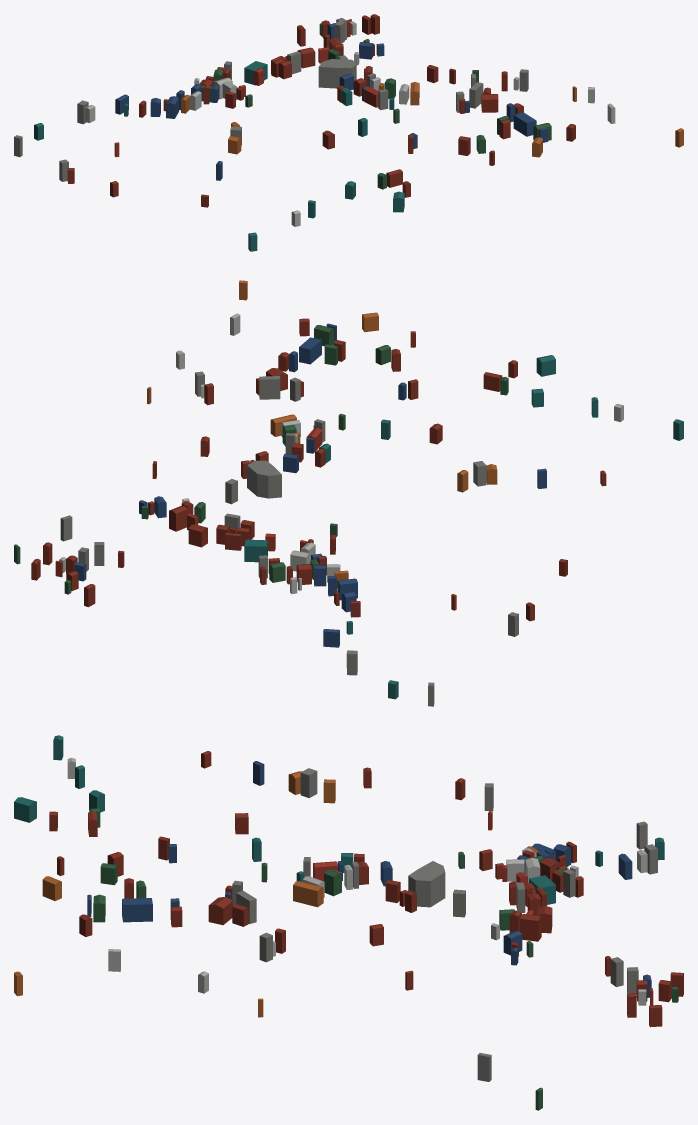
The model's file is near-16-54723-29726.9bdb68c6.glb.
3 views of the same model, one above another, from view 1: azimuth 30°, elevation 25°; view 2: azimuth 150°, elevation 25°; view 3: azimuth 270°, elevation 25° (orthographic). The views are drawn at different scales.
Bounding box in the file's own units: 571 × 145 × 589.
